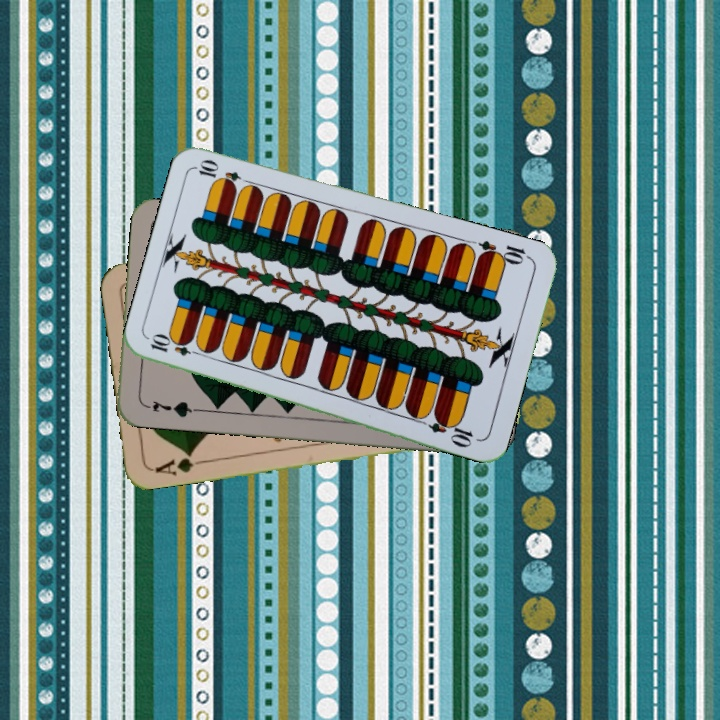E10: (474, 236, 533, 268), (146, 333, 205, 359)
G7: (140, 396, 199, 420)
GA: (151, 448, 208, 478)
